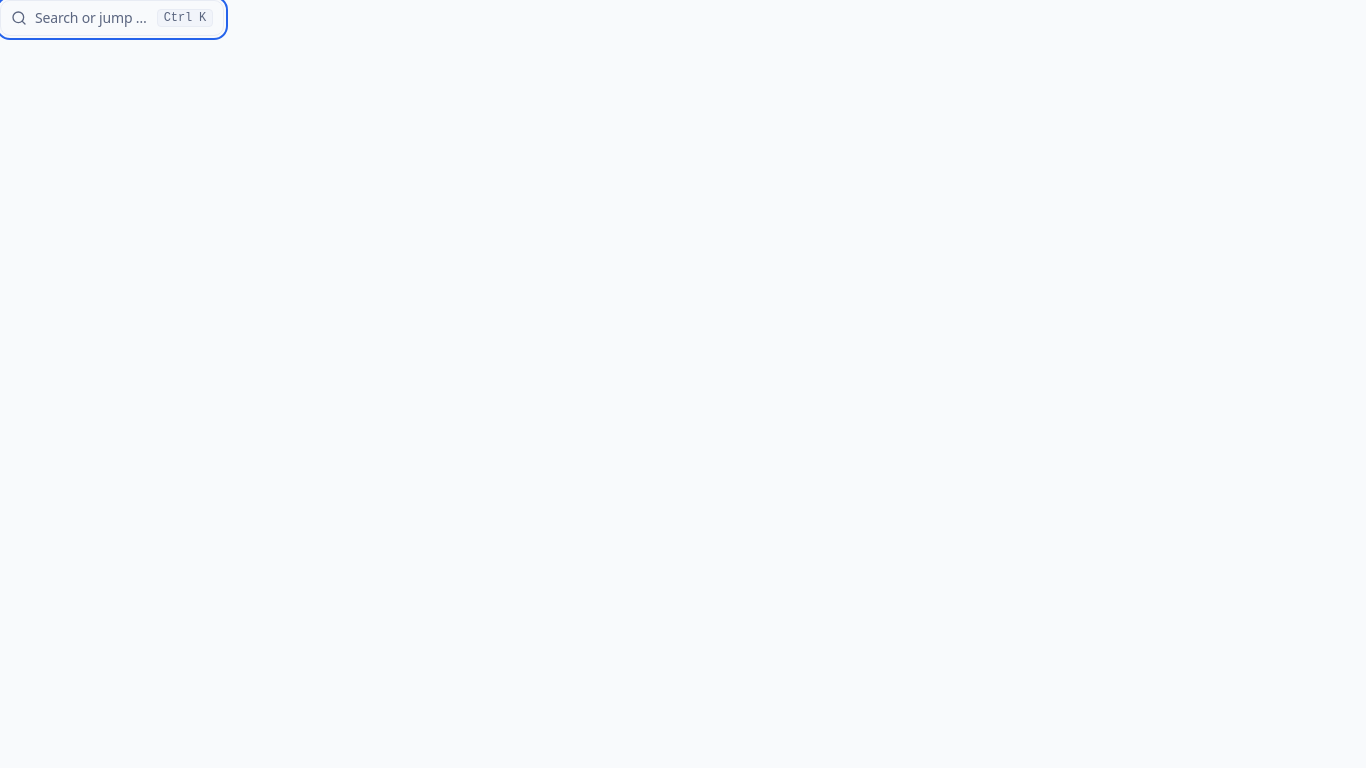
Test: PaletteView keyboard › opens with Ctrl+K, filters, navigates with arrows + Enter, traps Tab, closes on Esc and restores focus
Press k
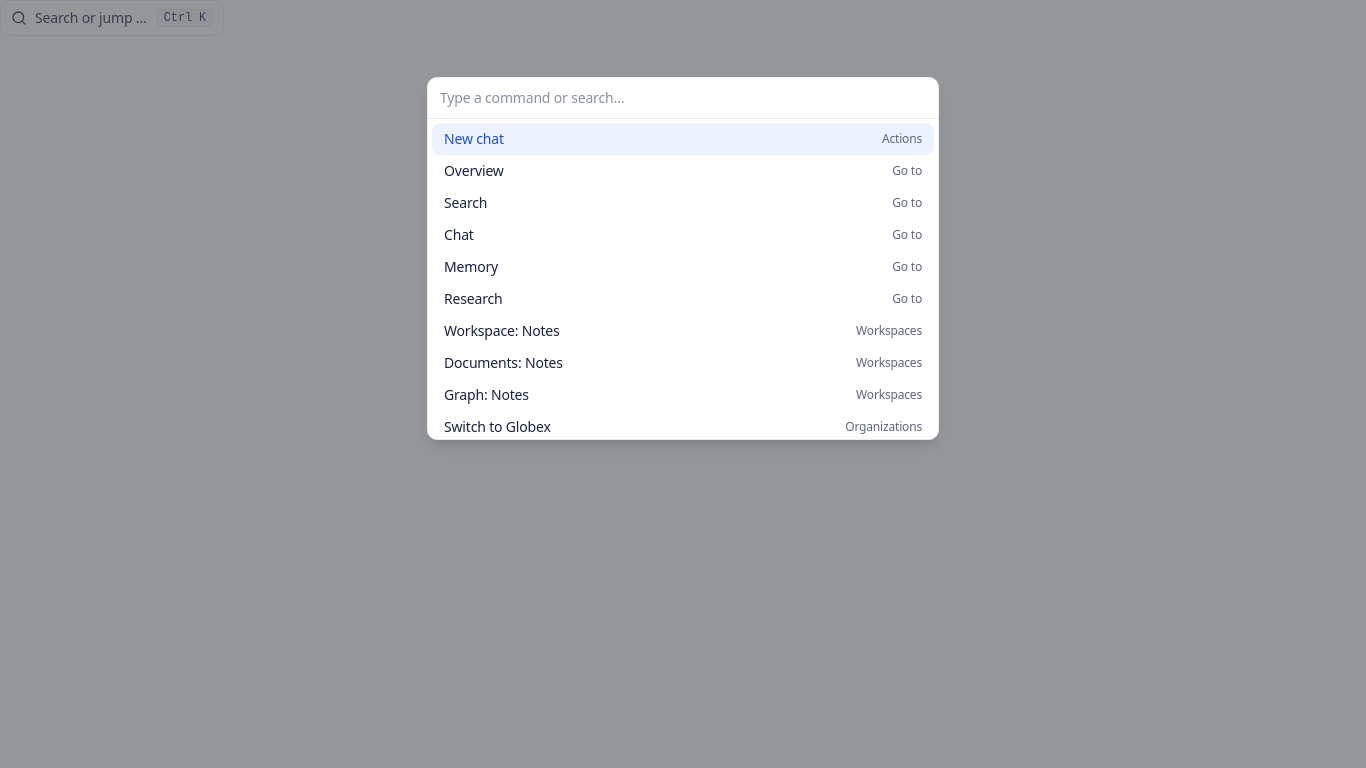
Press Tab
In the dropdown with test id "palette-input": (683, 98) top-left (428, 78), bottom-right (938, 119), type "mem"
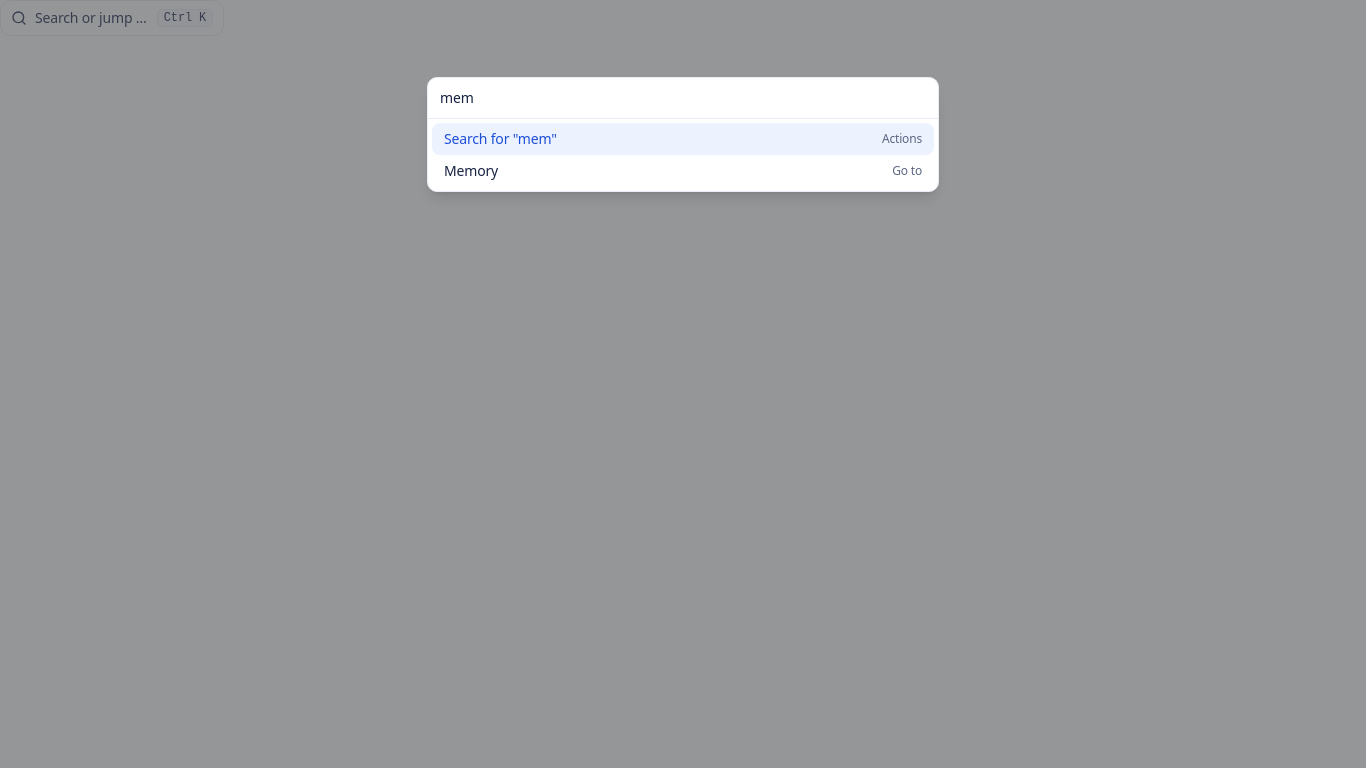
Press Arrowdown
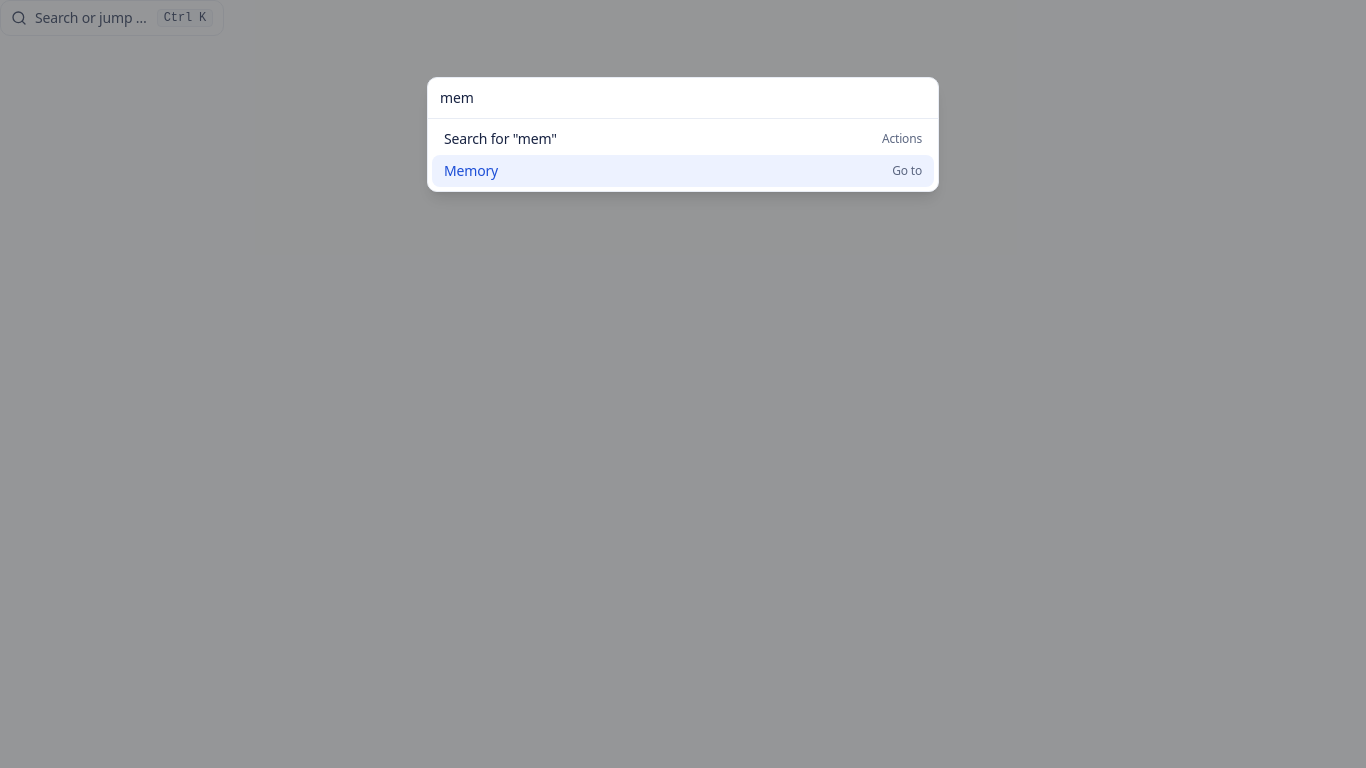
Result: the option with test id "palette-option" is selected at top-left (432, 155), bottom-right (934, 187)
Press Enter
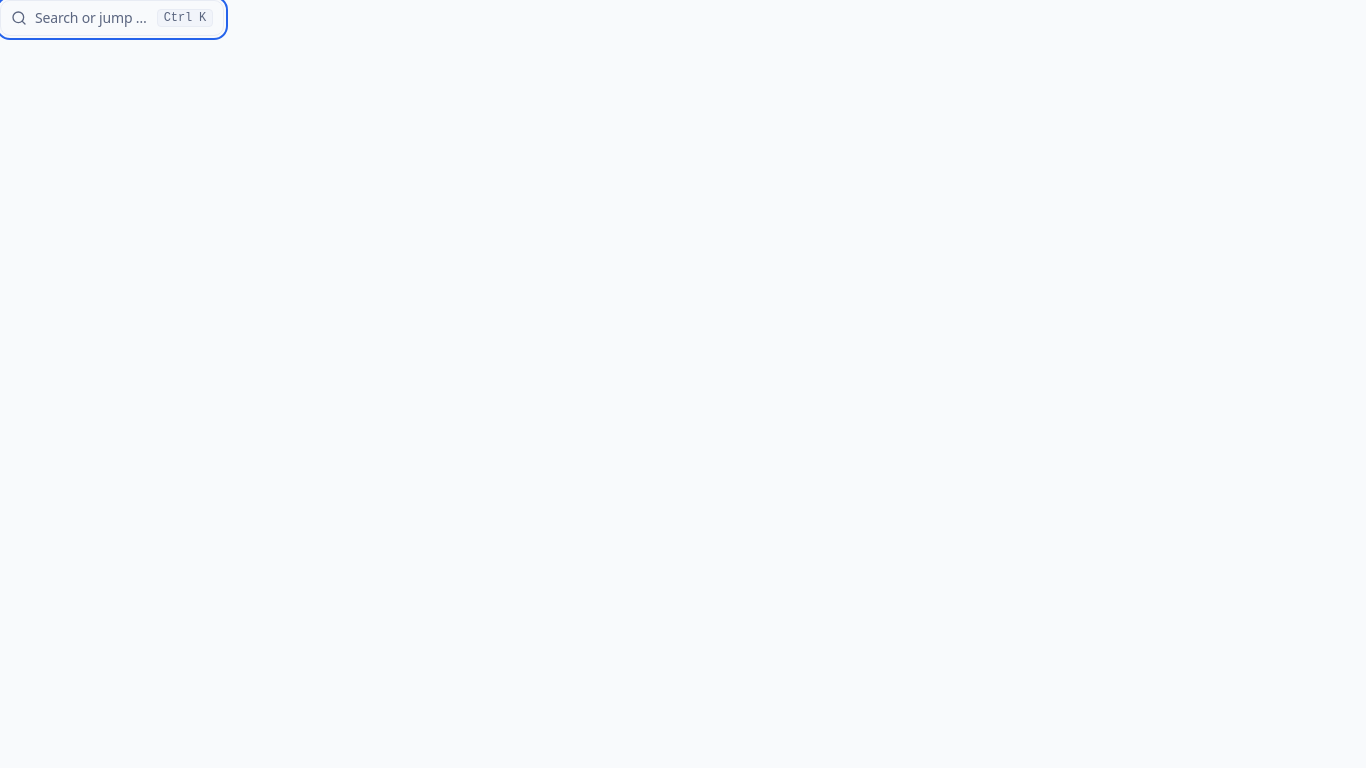
Result: the dialog is gone
Press k
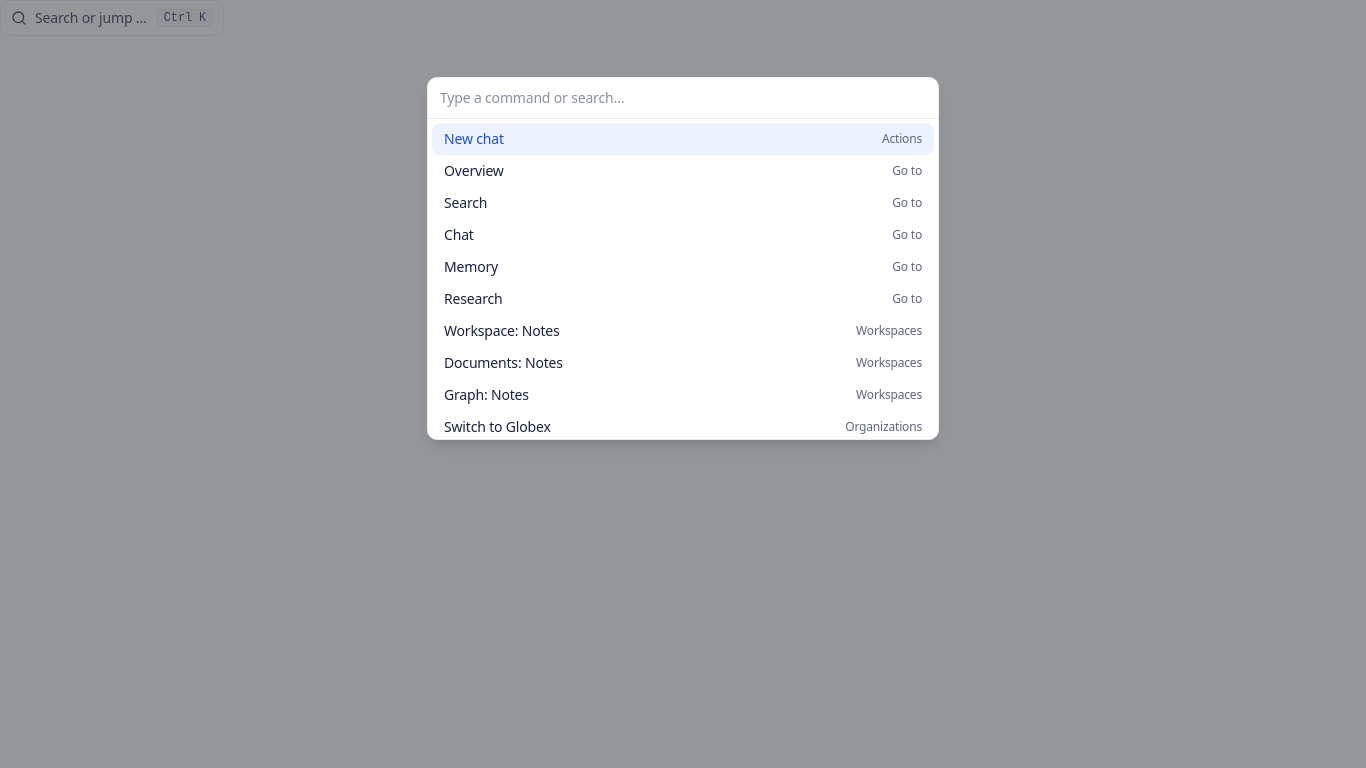
Result: the dialog is shown at top-left (427, 77), bottom-right (939, 440)
Press Escape
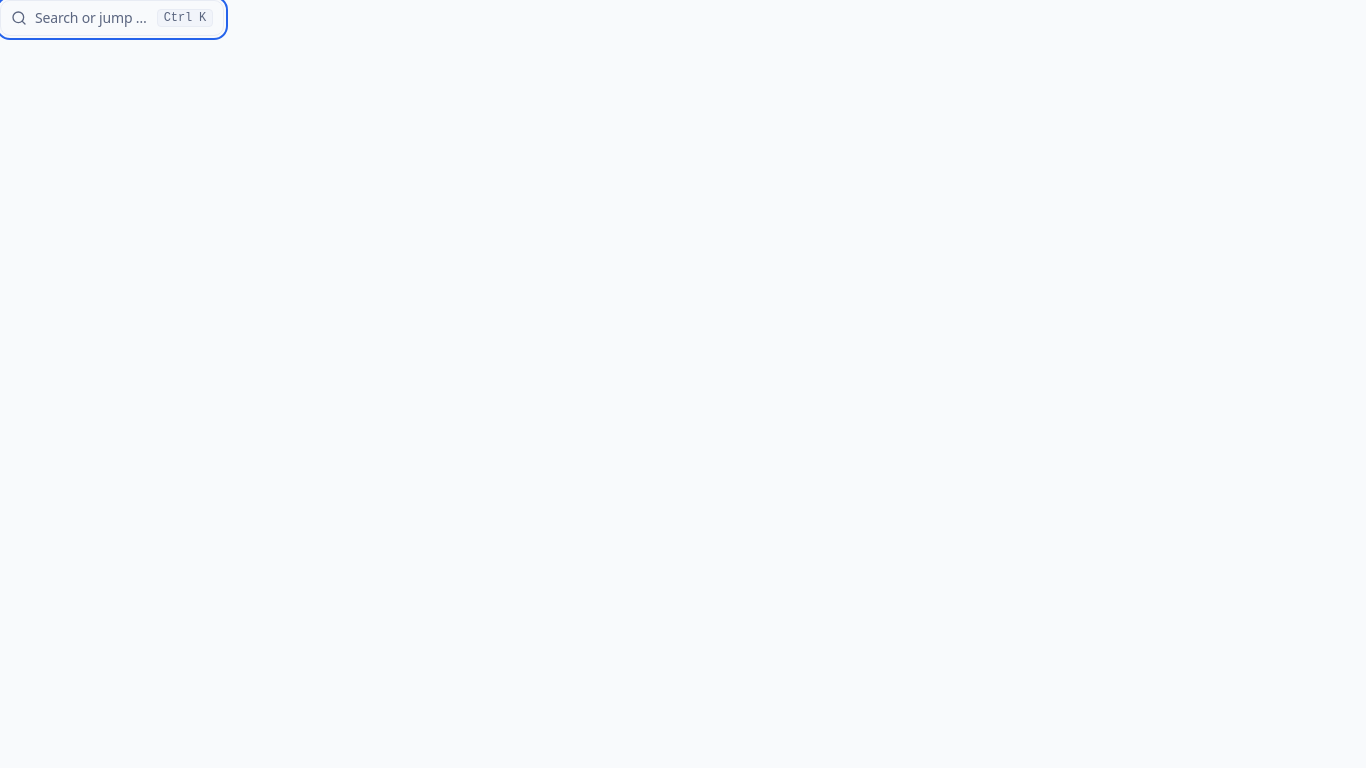
Result: the dialog is gone
